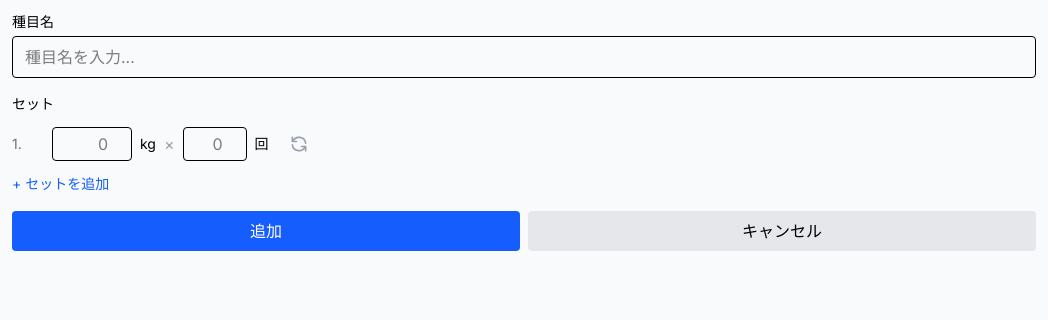
Test: ExerciseForm › セット管理 › 追加されたセットは前のセットの値を引き継ぐ
// Set values for first set
Type "60" into the 1st number field with placeholder "0" at point(92, 144), box [52, 127, 132, 161]
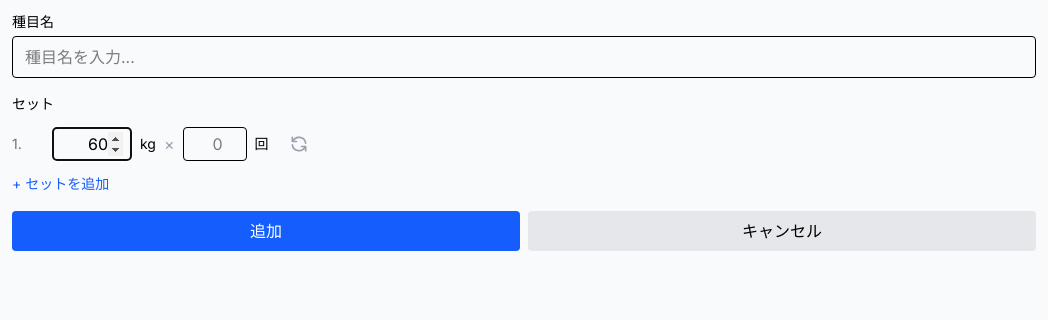
Type "10" into the number field with placeholder "0" at point(215, 144), box [183, 127, 247, 161]
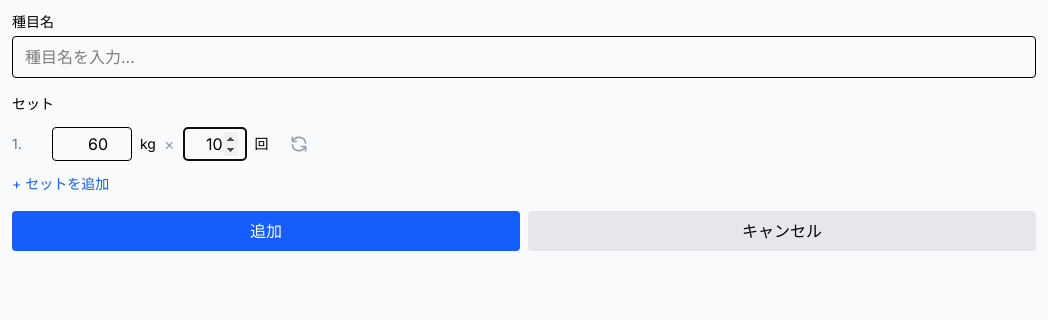
// Add new set
Click the button "+ セットを追加" at point(61, 184), box [12, 174, 109, 194]
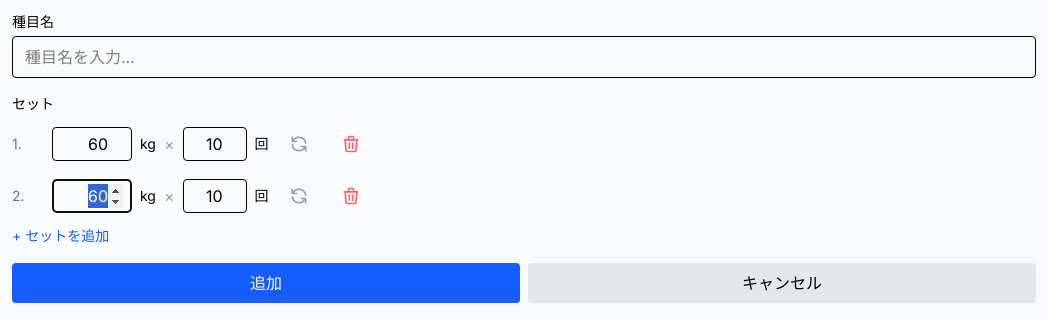
Check: the 3rd number field holds "60", box [52, 179, 132, 213]
Check: the 4th number field holds "10", box [183, 179, 247, 213]
